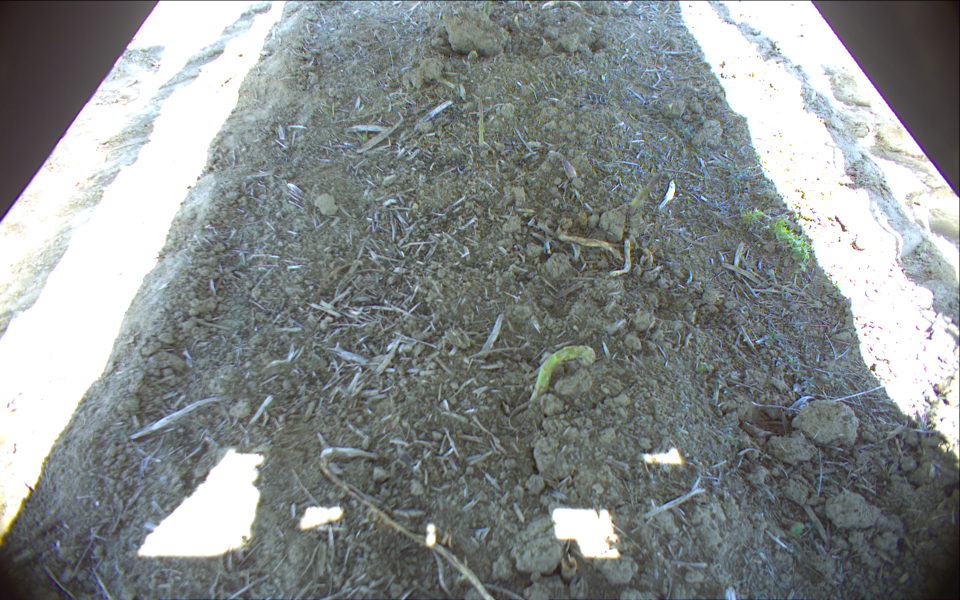aspa: (530, 345, 596, 405), (633, 171, 662, 209), (478, 96, 487, 147), (562, 157, 580, 181), (483, 1, 490, 19), (518, 1, 525, 13)
